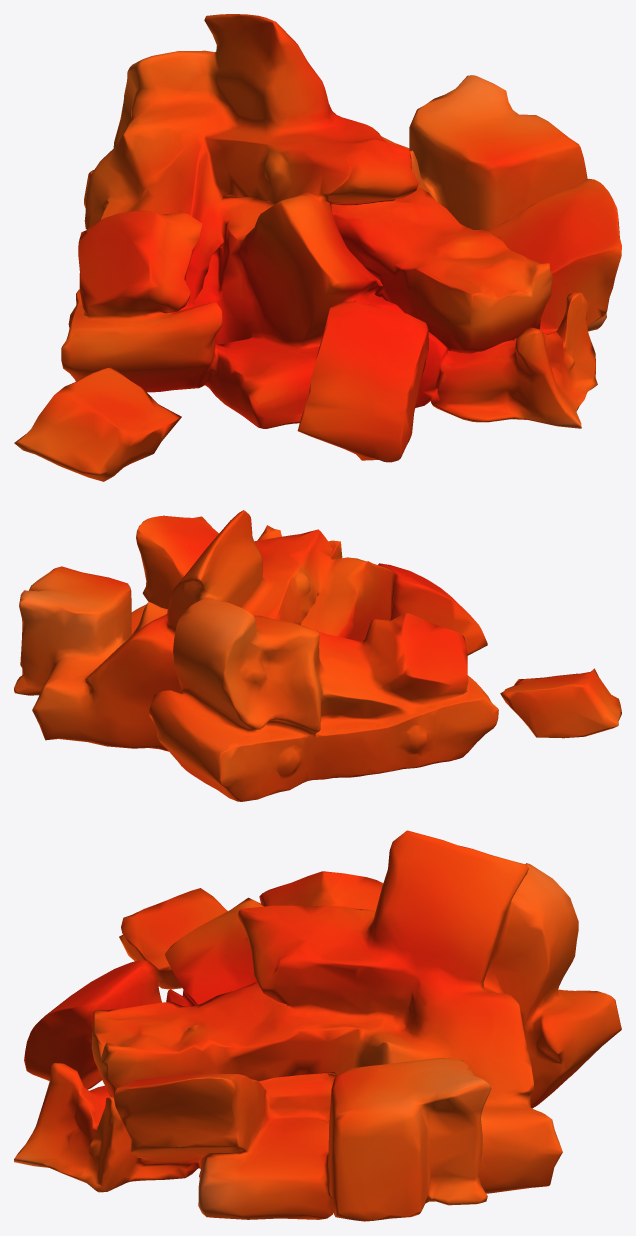
File: tomateCubitos.glb
The picture shows the model from 3 angles, top to bottom: view 1: azimuth 30°, elevation 25°; view 2: azimuth 150°, elevation 25°; view 3: azimuth 270°, elevation 25°; orthographic projection. The views are drawn at different scales.
Parts seen in each view (by area): view 1: tripo_node_c22c529b-553f-4349-ad56-8f4dd64ad9b9; view 2: tripo_node_c22c529b-553f-4349-ad56-8f4dd64ad9b9; view 3: tripo_node_c22c529b-553f-4349-ad56-8f4dd64ad9b9.
Part boxes in pixels (x1,y1,x2,y2): tripo_node_c22c529b-553f-4349-ad56-8f4dd64ad9b9: (14, 14, 621, 481); tripo_node_c22c529b-553f-4349-ad56-8f4dd64ad9b9: (14, 510, 621, 801); tripo_node_c22c529b-553f-4349-ad56-8f4dd64ad9b9: (14, 830, 621, 1221).
Bounding box in the file's own units: 0.9816 × 0.4283 × 0.8151.
Materials: 1 (1 with a texture image).
